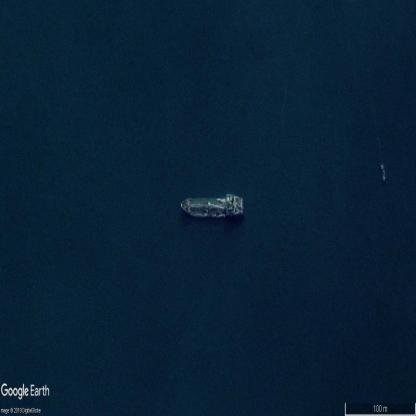ship: (180, 194, 244, 216)
